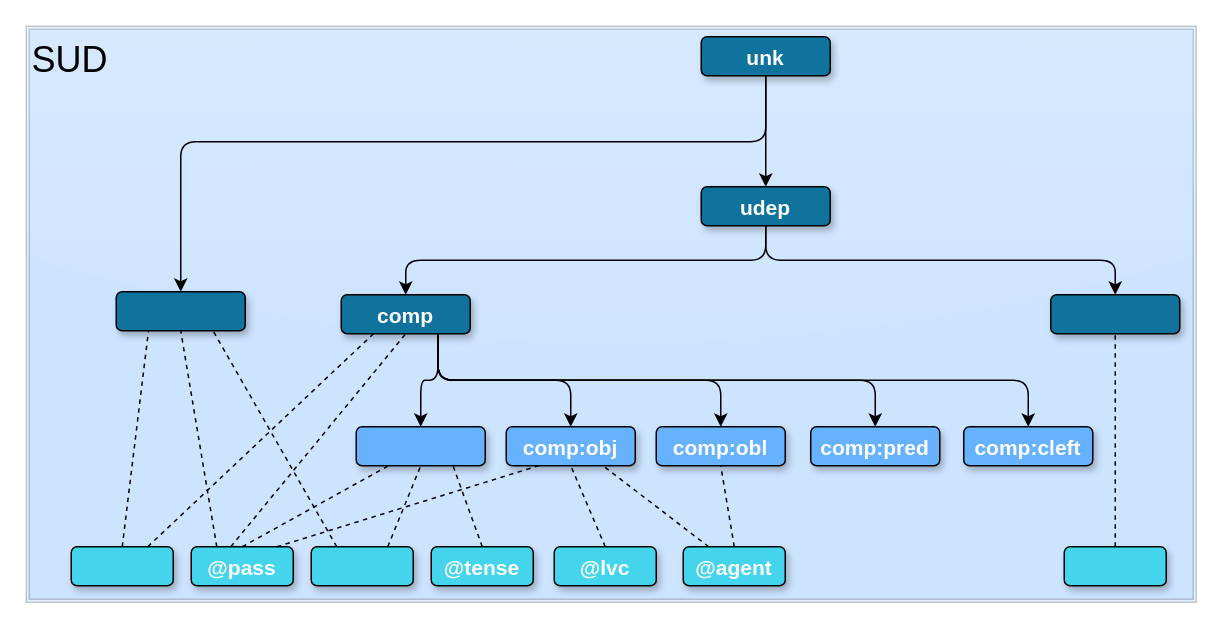
Some shapes in this 1223 by 629 pixel diagram are drawn without their labels. Each missing label, with the centre of its shape:
@caus: the point at 363,567
@expl: the point at 123,567
@relcl: the point at 1116,567
comp:aux: the point at 421,447
mod: the point at 1116,315
subj: the point at 181,312
